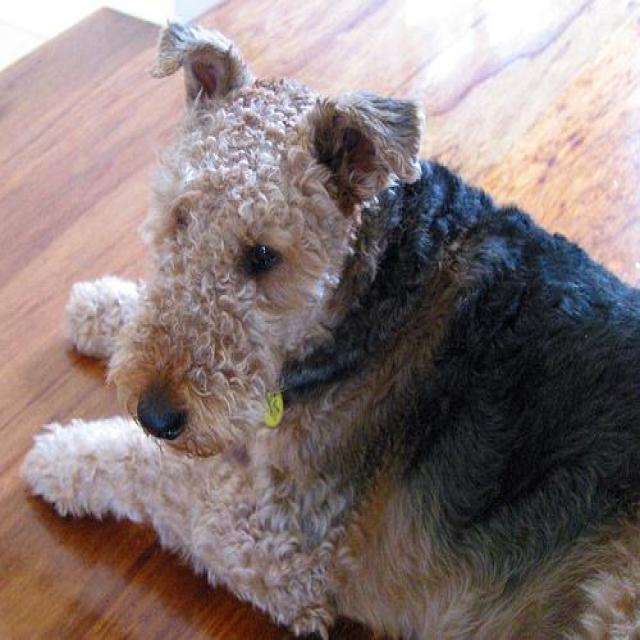airedale: (15, 8, 639, 638)
